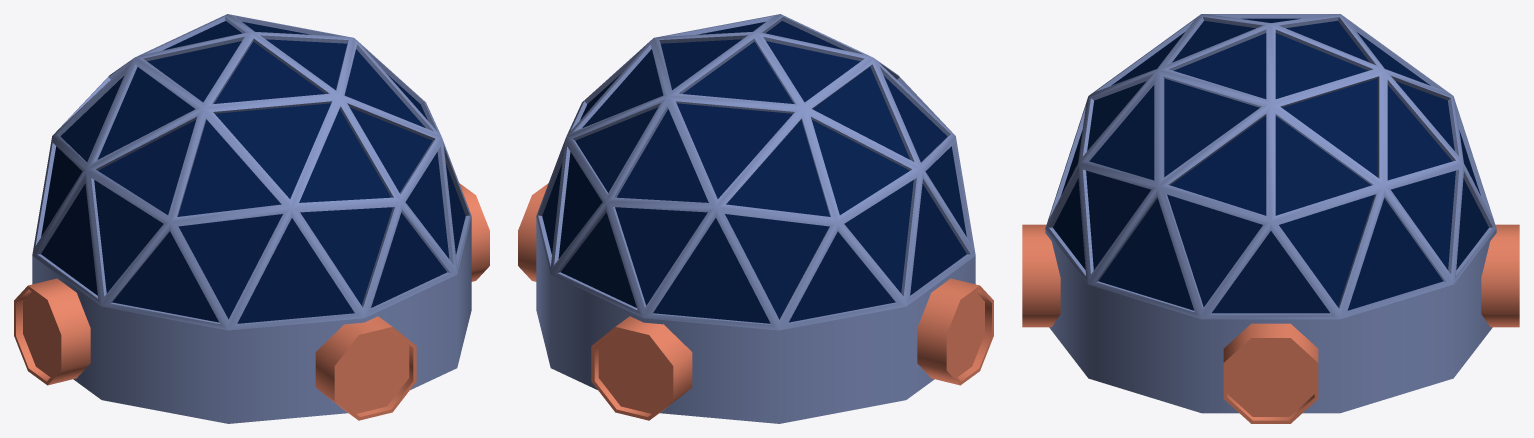
The model's file is Main HAB.fbx.
The picture shows the model from 3 angles, left to right: view 1: azimuth 30°, elevation 25°; view 2: azimuth 150°, elevation 25°; view 3: azimuth 270°, elevation 25°; orthographic projection.
Parts seen in each view (by area): view 1: Main HAB.001; view 2: Main HAB.001; view 3: Main HAB.001.
Boxes of the visible parts, box(x1,y1,x2,y2) form: Main HAB.001: box(14, 14, 489, 423); Main HAB.001: box(518, 14, 993, 423); Main HAB.001: box(1022, 14, 1519, 423).
Size of the model in its own units: 1012 by 671 by 1012.
